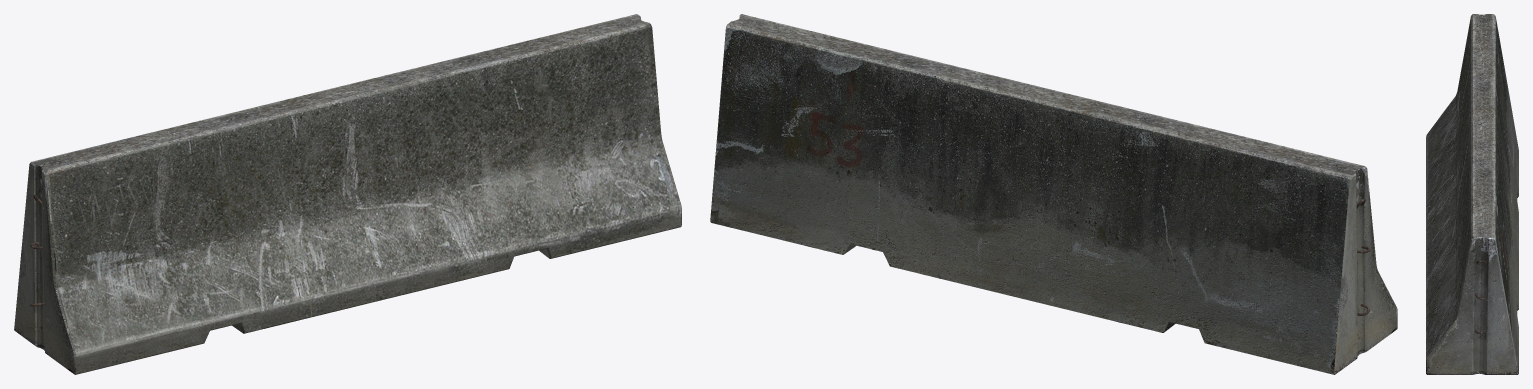
The model's file is barrier.glb.
The picture shows the model from 3 angles, left to right: view 1: azimuth 30°, elevation 25°; view 2: azimuth 150°, elevation 25°; view 3: azimuth 270°, elevation 25°; orthographic projection. The views are drawn at different scales.
Visible parts, largest first — view 1: RoadBlockade_01; view 2: RoadBlockade_01; view 3: RoadBlockade_01.
Boxes of the visible parts, x1,y1,x2,y2 form: RoadBlockade_01: [14, 14, 681, 374]; RoadBlockade_01: [710, 14, 1397, 374]; RoadBlockade_01: [1426, 14, 1518, 374].
Bounding box in the file's own units: 2.88 × 0.8 × 0.4903.
1 material, 1 textured.
